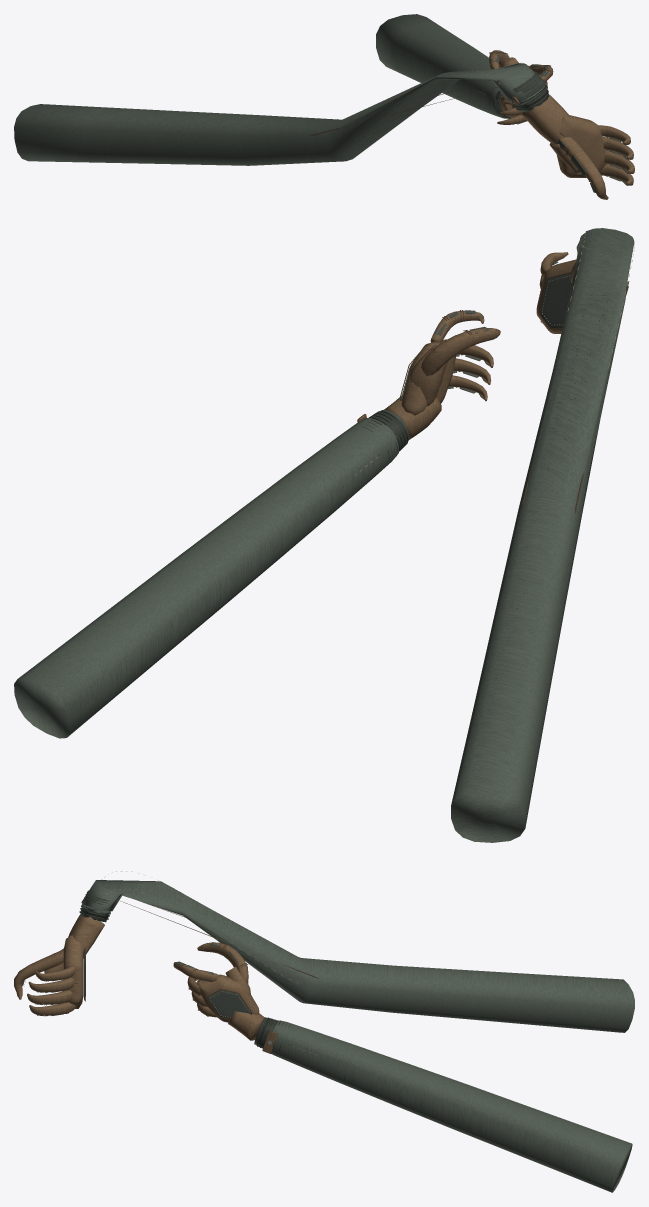
Rendered from hands-tommy.glb.
3 renders of one model, top to bottom at view 1: azimuth 30°, elevation 25°; view 2: azimuth 150°, elevation 25°; view 3: azimuth 270°, elevation 25°, orthographic. The views are drawn at different scales.
Visible parts, largest first — view 1: LeftHand, RightHand; view 2: LeftHand, RightHand; view 3: LeftHand, RightHand.
Boxes of the visible parts, box(x1,y1,x2,y2) form: LeftHand: box(14, 60, 634, 199); RightHand: box(376, 14, 553, 124); LeftHand: box(451, 228, 634, 842); RightHand: box(14, 310, 500, 738); LeftHand: box(14, 871, 634, 1032); RightHand: box(173, 942, 632, 1192).
Bounding box in the file's own units: 0.8038 × 0.4596 × 1.14.
Materials: 8 (6 with a texture image).
